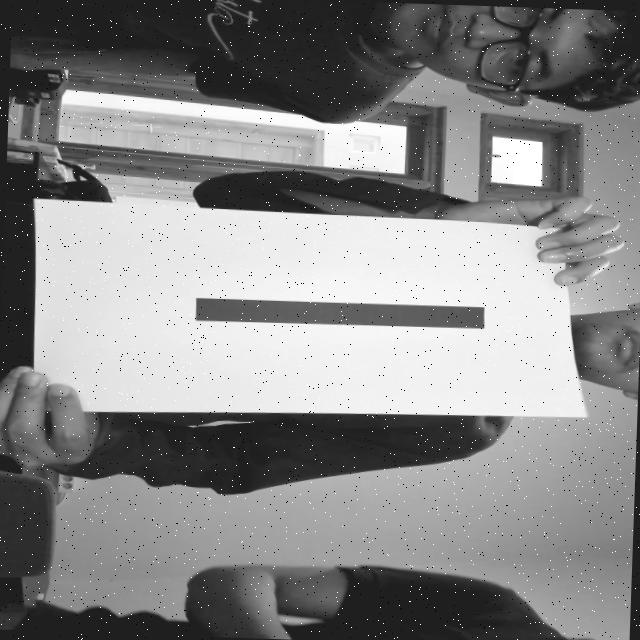i: (164, 278, 514, 344)
